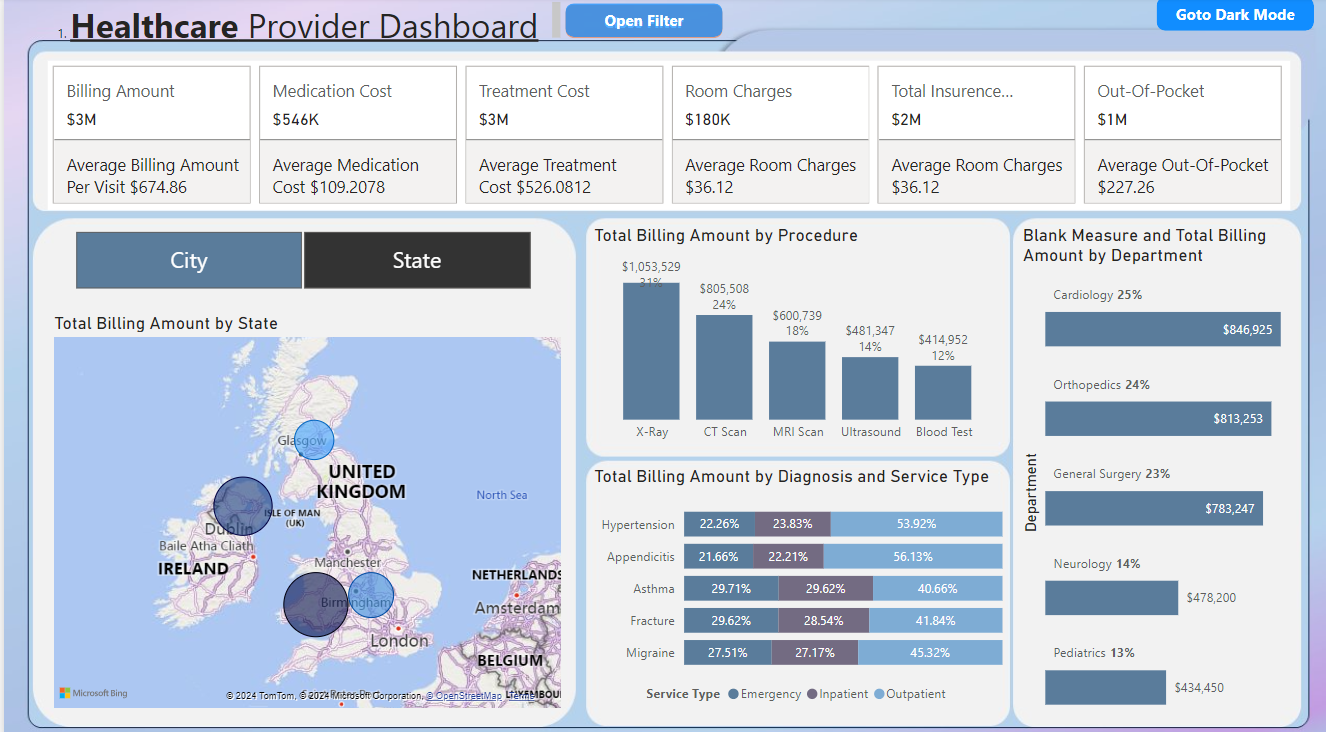

The dashboard page shown, as its layout file describes it:
{"tool":"powerbi","page":{"name":"Detail","canvas":[1280,720],"ordinal":0},"visuals":[{"type":"actionButton","title":"Close","box":[541.7,7.2,152,32.6],"z":0,"group":"g1"},{"type":"cardVisual","fields":{"Data":["measureTable.Total Billing Amount","measureTable.Total Medication Cost","measureTable.Total Treatment Cost","measureTable.Total Room Charges","measureTable.Total Insurence Coverage","measureTable.Out-Of-Pocket"]},"box":[42.7,61.2,1198.9,143.6],"z":0},{"type":"actionButton","title":"Open","box":[542.1,5.7,152,32.6],"z":1000,"group":"g1"},{"type":"map","fields":{"Category":["cities.State"],"Size":["measureTable.Total Billing Amount"]},"box":[42.9,304.3,498.6,387.1],"z":1000},{"type":"slicer","fields":{"Values":[" location Parameter. location Parameter"]},"box":[42.9,220,488.6,68.6],"z":2000},{"type":"clusteredColumnChart","fields":{"Category":["procedures.Procedure"],"Y":["measureTable.Total Billing Amount"]},"box":[564.3,220,404.3,218.6],"z":3000},{"type":"hundredPercentStackedBarChart","fields":{"Y":["measureTable.Total Billing Amount"],"Category":["diagnoses.Diagnosis"],"Series":["visits.Service Type"]},"box":[564.3,452.9,404.3,238.6],"z":4000},{"type":"clusteredBarChart","fields":{"Category":["departments.Department"],"Y":["measureTable.Blank Measure","measureTable.Total Billing Amount"]},"box":[978.6,220,285.7,471.4],"z":5000},{"type":"textbox","box":[41.2,0,500.6,48.4],"z":6000},{"type":"actionButton","box":[1112.3,0,152,32.6],"z":7000},{"type":"group","id":"g1","title":"Slicer btn","box":[541.7,5.7,152.4,34.1],"z":9000}]}

Visuals, with their boxes in screenshot pixels (x1, y1, x2, y2), scaled from the page's 1280x720 canvas onto the 1326x732 screenshot:
"Close" actionButton: locate(561, 7, 719, 40)
cardVisual - measureTable.Total Billing Amount x measureTable.Total Medication Cost: locate(44, 62, 1286, 208)
"Open" actionButton: locate(562, 6, 719, 39)
map - cities.State x measureTable.Total Billing Amount: locate(44, 309, 561, 703)
slicer -  location Parameter. location Parameter: locate(44, 224, 551, 293)
clusteredColumnChart - procedures.Procedure x measureTable.Total Billing Amount: locate(585, 224, 1003, 446)
hundredPercentStackedBarChart - measureTable.Total Billing Amount x diagnoses.Diagnosis: locate(585, 460, 1003, 703)
clusteredBarChart - departments.Department x measureTable.Blank Measure: locate(1014, 224, 1310, 703)
textbox: locate(43, 0, 561, 49)
actionButton: locate(1152, 0, 1310, 33)
"Slicer btn" group: locate(561, 6, 719, 40)
